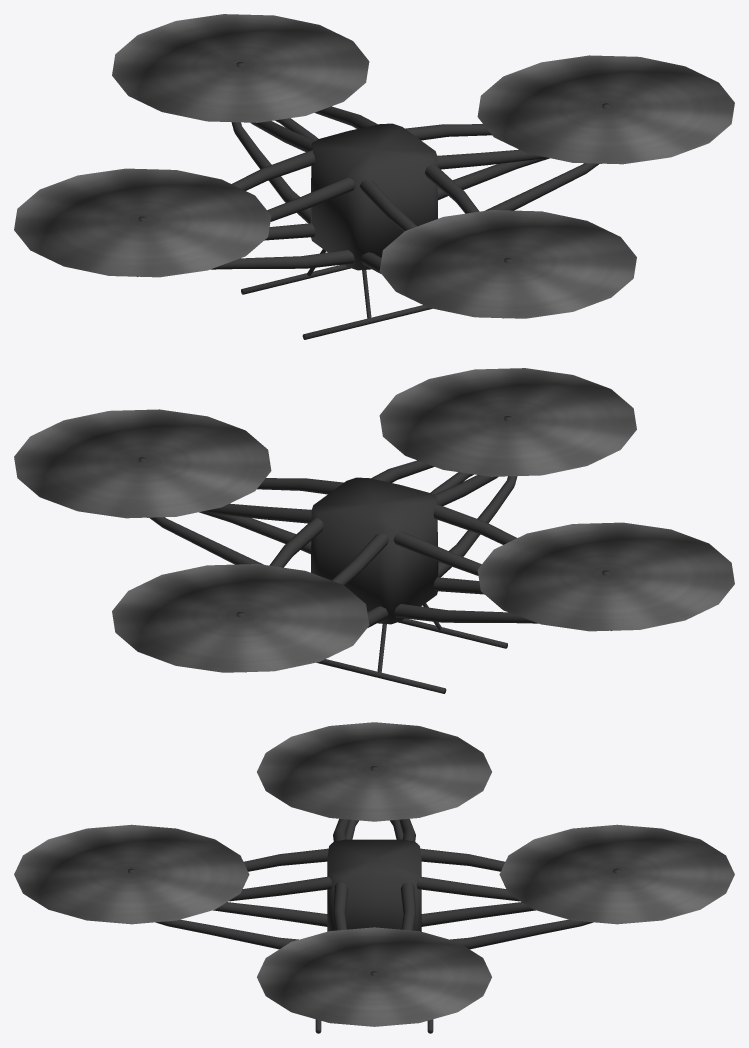
File: iai_wasp.dae
3 views of the same model, one above another, from view 1: azimuth 30°, elevation 25°; view 2: azimuth 150°, elevation 25°; view 3: azimuth 270°, elevation 25° (orthographic). The views are drawn at different scales.
Visible parts, largest first — view 1: IAI_Wasp_VIS_005; view 2: IAI_Wasp_VIS_005; view 3: IAI_Wasp_VIS_005.
Part boxes in pixels (x1,y1,x2,y2): IAI_Wasp_VIS_005: (14,14,734,339); IAI_Wasp_VIS_005: (14,368,734,693); IAI_Wasp_VIS_005: (14,722,734,1033).
Bounding box in the file's own units: 0.5097 × 0.5097 × 0.101.
2 materials, 1 textured.
